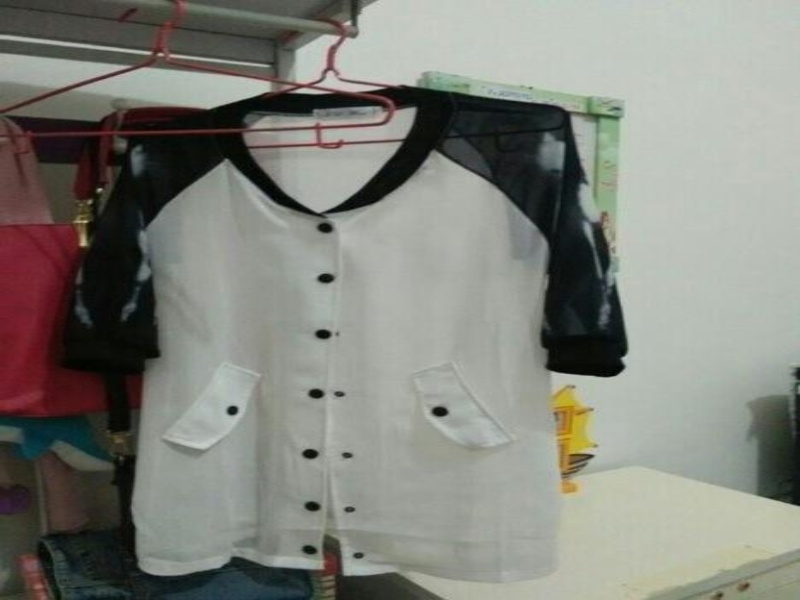long_sleeved_outwear: (62, 82, 670, 584)
